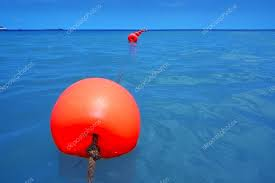buoy: (51, 79, 142, 158), (127, 34, 139, 42)
